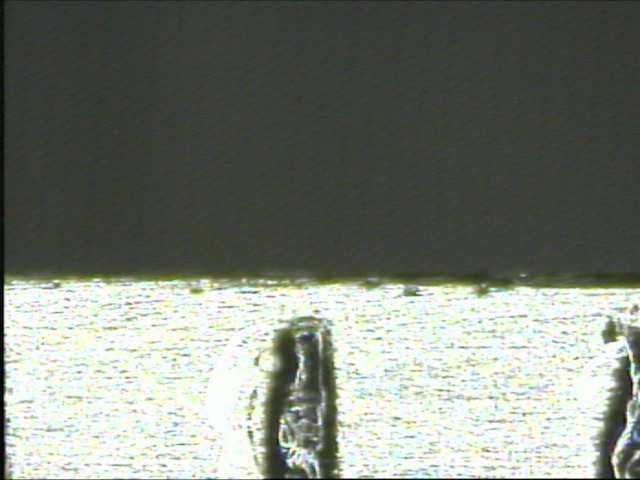line: (259, 311, 338, 477)
